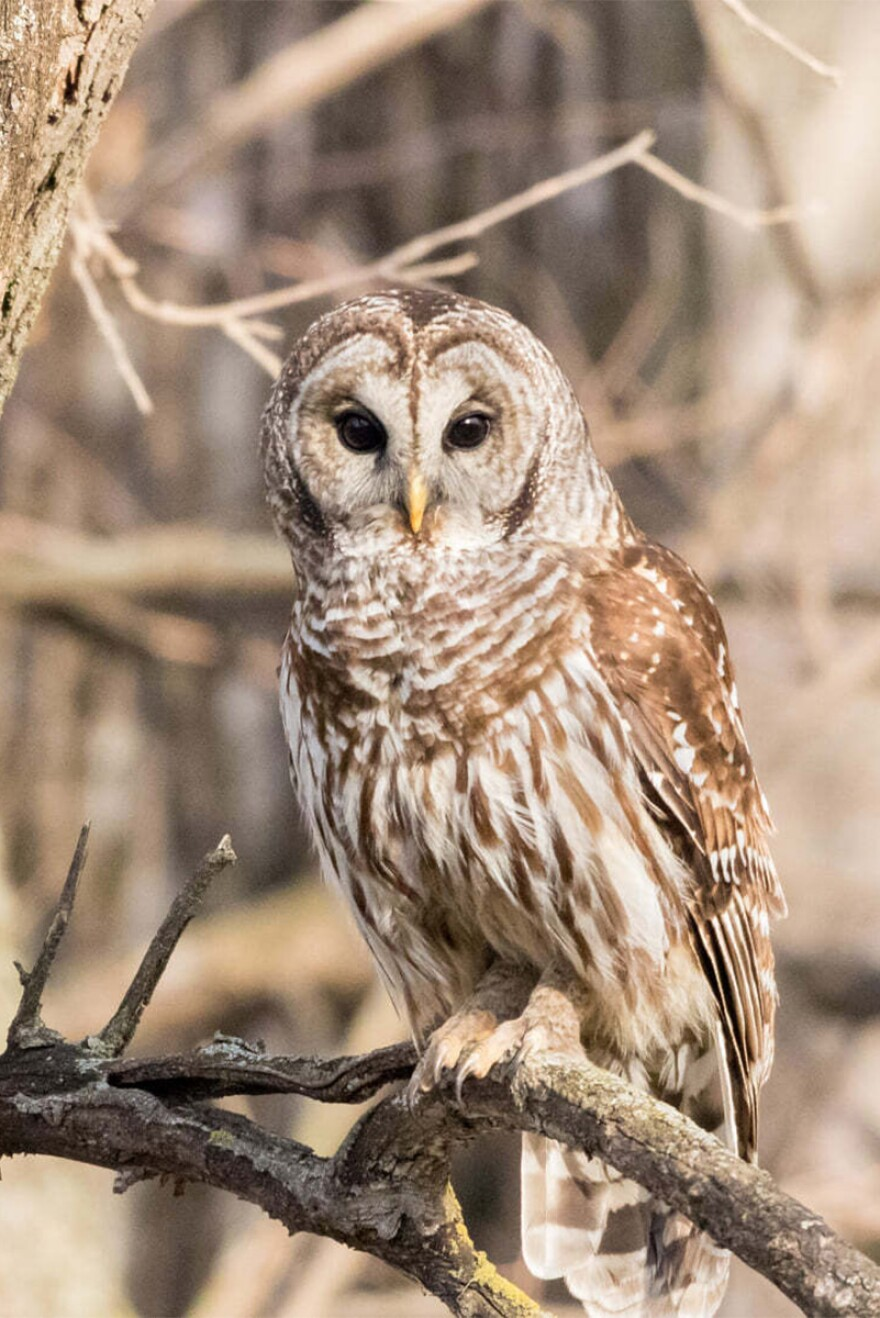donkey: (263, 291, 795, 1293)
